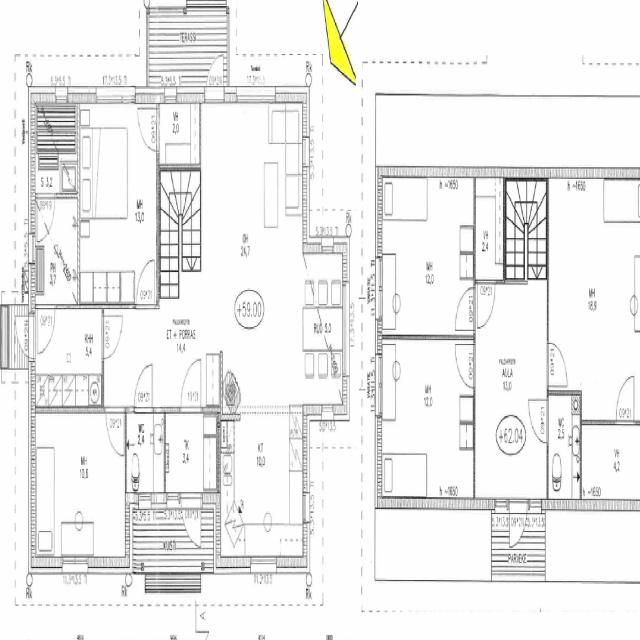door: (182, 493, 200, 556), (205, 44, 223, 104), (181, 360, 201, 413), (11, 316, 35, 358), (509, 501, 527, 554), (106, 408, 125, 458), (616, 376, 634, 425), (477, 279, 495, 327), (456, 344, 476, 387), (456, 287, 476, 330), (136, 261, 154, 308), (134, 366, 152, 413), (139, 109, 159, 151), (546, 344, 566, 386), (37, 304, 55, 350), (37, 193, 54, 241), (102, 316, 121, 358), (529, 400, 548, 442)
